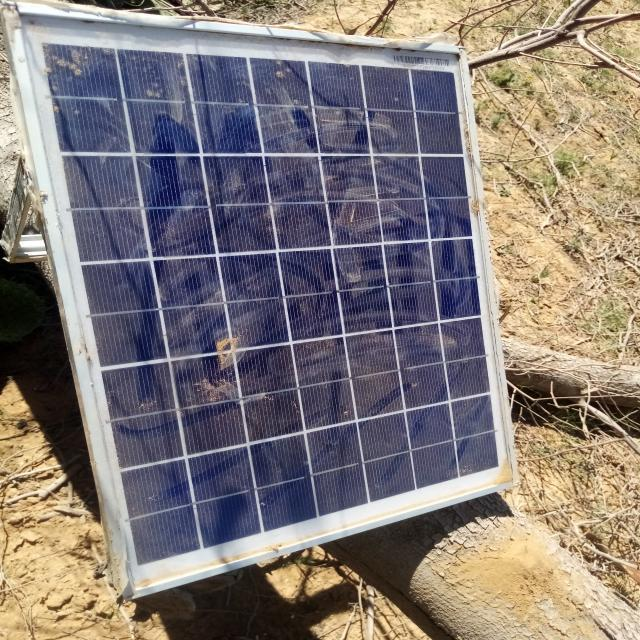faulty: (10, 3, 517, 598)
